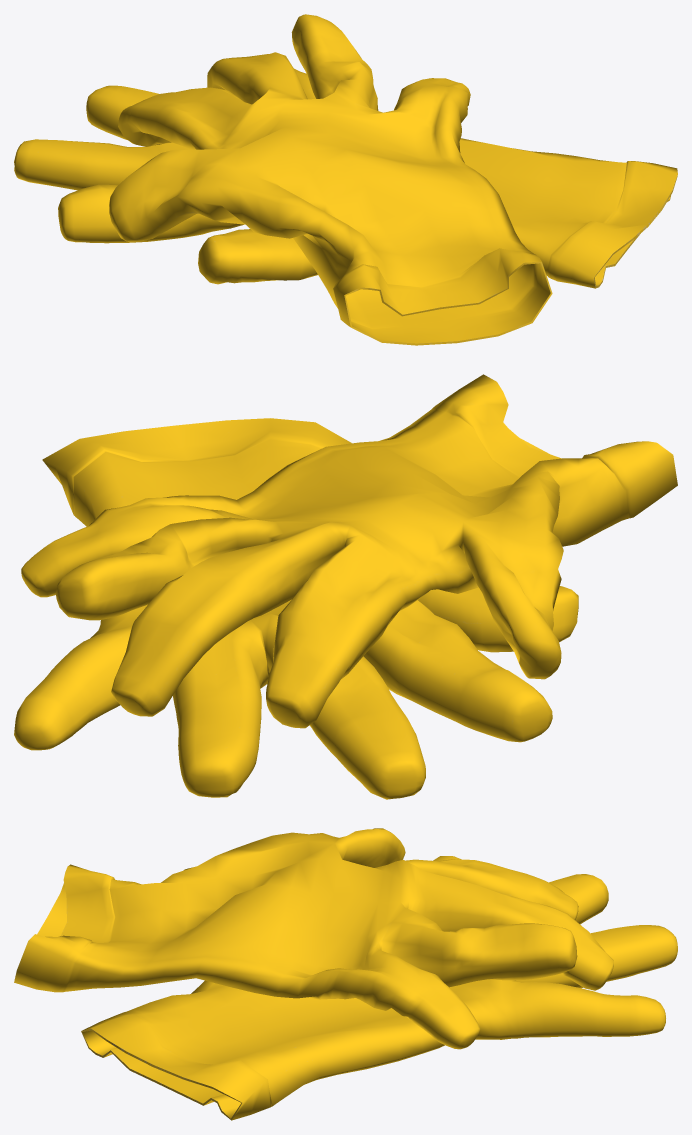
Rendered from Gloves.fbx.
The picture shows the model from 3 angles, top to bottom: view 1: azimuth 30°, elevation 25°; view 2: azimuth 150°, elevation 25°; view 3: azimuth 270°, elevation 25°; orthographic projection. The views are drawn at different scales.
Parts seen in each view (by area): view 1: node_id5, node_id7; view 2: node_id5, node_id7; view 3: node_id5, node_id7.
Boxes of the visible parts, <box> form: node_id5: <box>109,14,552,345</box>; node_id7: <box>14,68,677,288</box>; node_id5: <box>21,374,677,728</box>; node_id7: <box>14,418,578,799</box>; node_id5: <box>14,828,613,1049</box>; node_id7: <box>81,856,677,1120</box>.
Size of the model in its own units: 0.3721 by 0.0835 by 0.4336.
2 materials, 2 textured.
